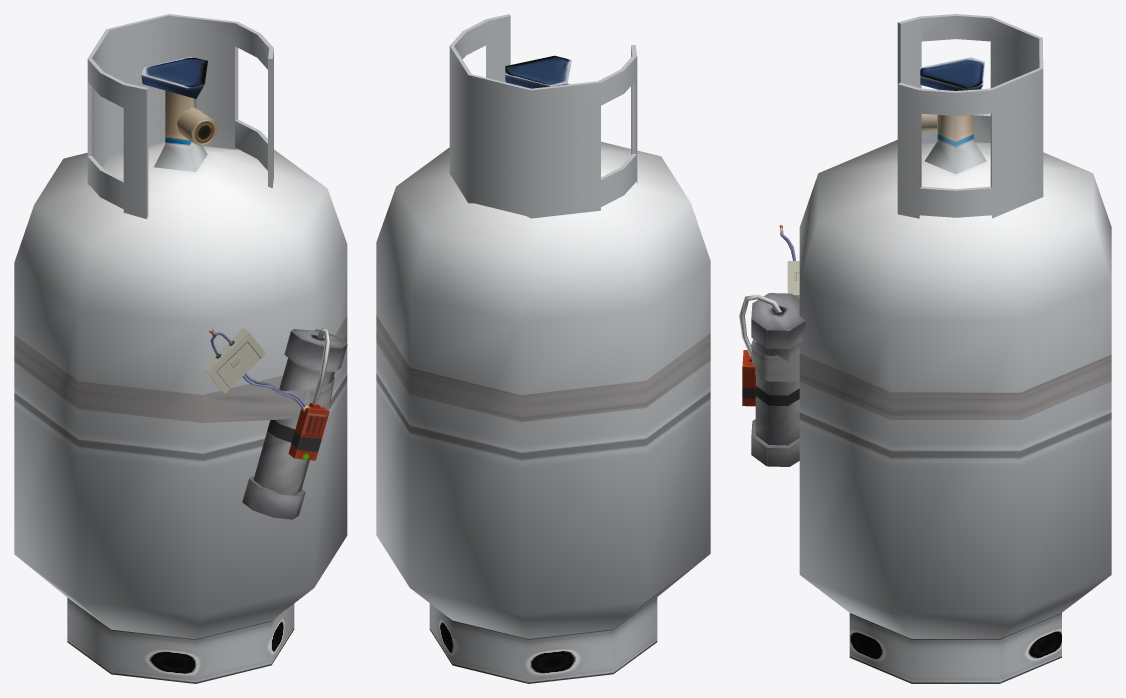
The model's file is PropaneBombSensor_Mesh.fbx.
The picture shows the model from 3 angles, left to right: view 1: azimuth 30°, elevation 25°; view 2: azimuth 150°, elevation 25°; view 3: azimuth 270°, elevation 25°; orthographic projection.
Parts seen in each view (by area): view 1: PropaneTankBombSensor; view 2: PropaneTankBombSensor; view 3: PropaneTankBombSensor.
Part boxes in pixels (<box>): PropaneTankBombSensor: <box>14,14,347,683</box>; PropaneTankBombSensor: <box>376,14,710,683</box>; PropaneTankBombSensor: <box>739,14,1111,683</box>.
Size of the model in its own units: 54.7 by 113 by 65.3.
